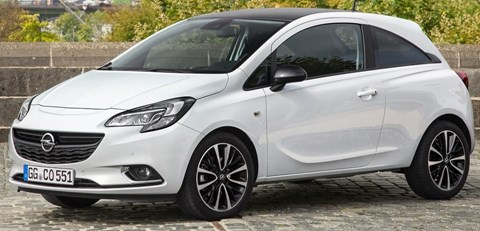licence: (19, 160, 75, 186)
